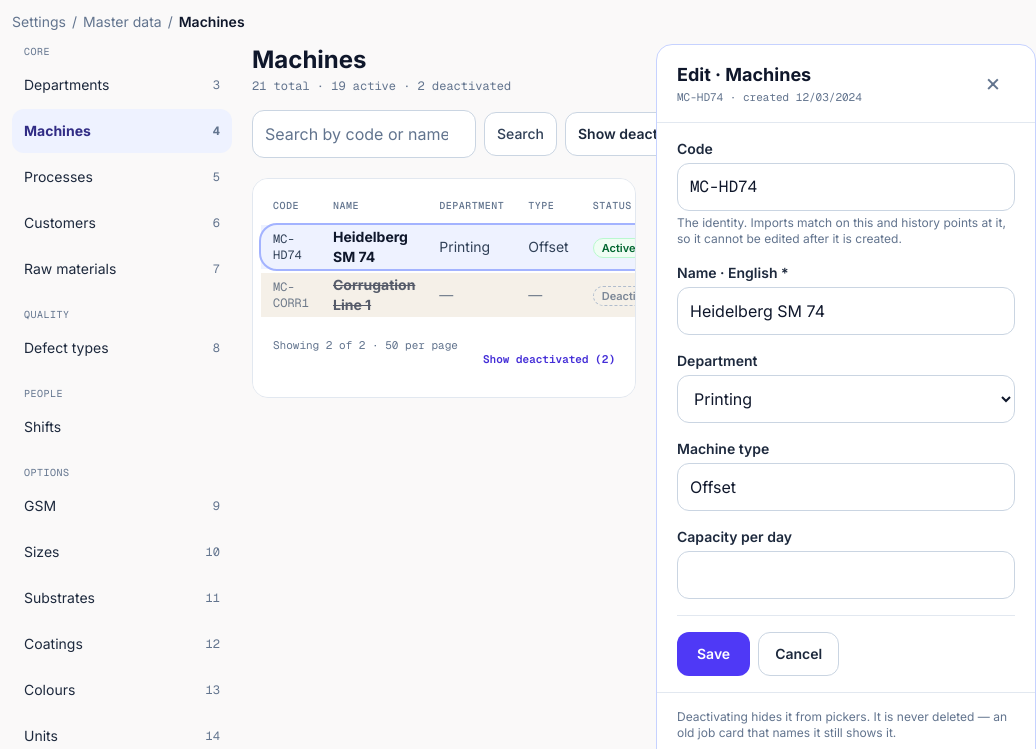
Test: a failed save › a CHOICE the person changed is kept too — a select does not fall back to its saved value after the form reset
Select "Packaging" in the dropdown labelled "Department" at (846, 398), box [677, 374, 1015, 422]
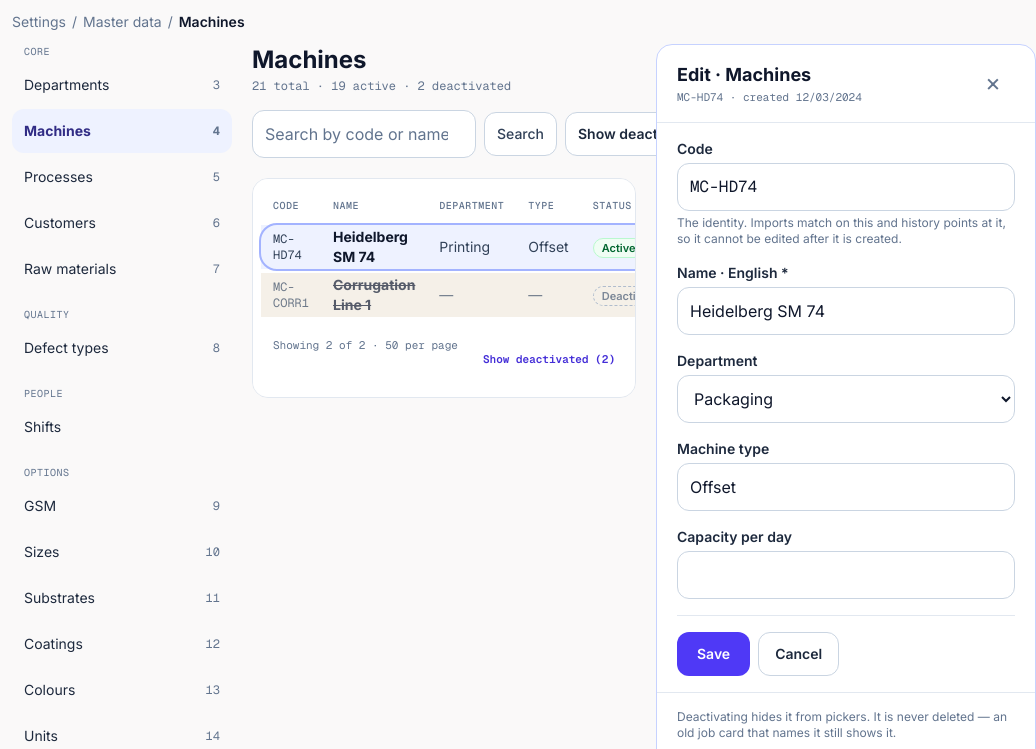
Submit the form that starts with "Code", box [657, 122, 1035, 692]
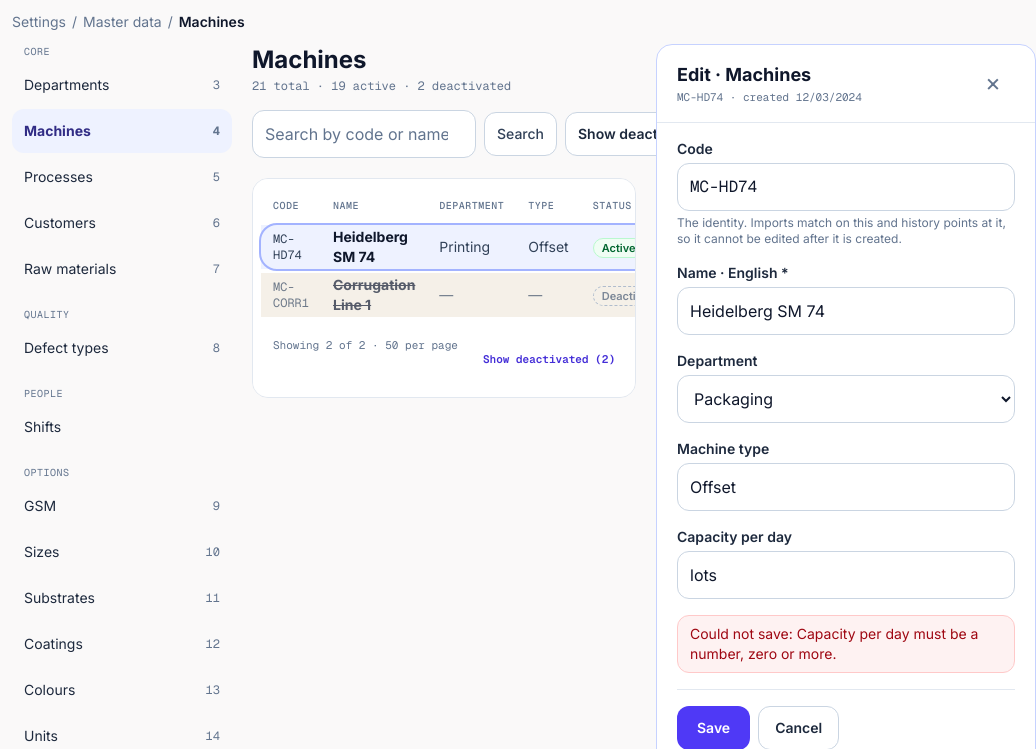
Check: the dropdown labelled "Department" shows "Packaging", box [677, 374, 1015, 422]
Check: the message "Could not save: Capacity per day must be a number, zero or more." is shown, box [677, 614, 1015, 672]
